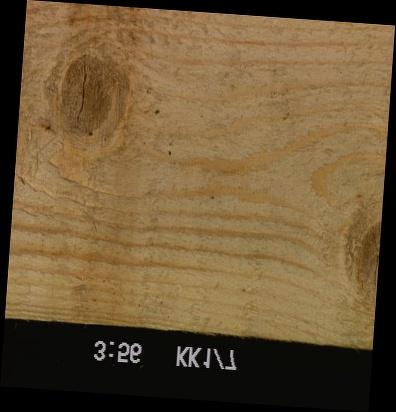sound_knot: (57, 55, 114, 133), (351, 220, 378, 300)
